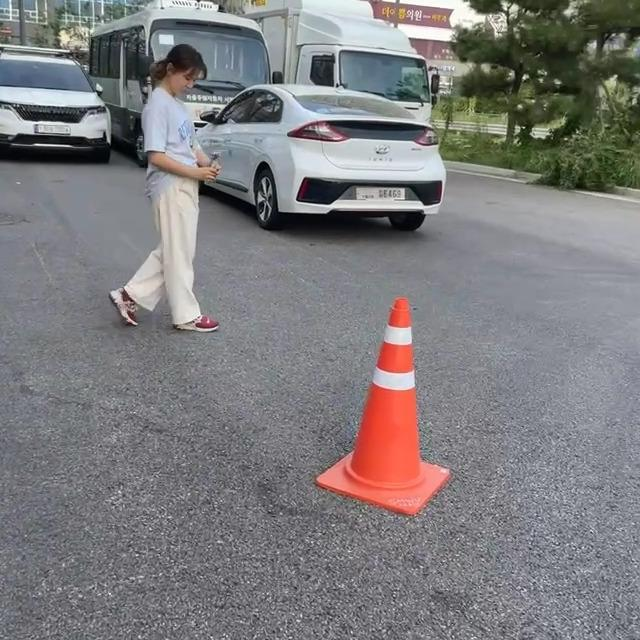fallen_object: (287, 290, 469, 553)
